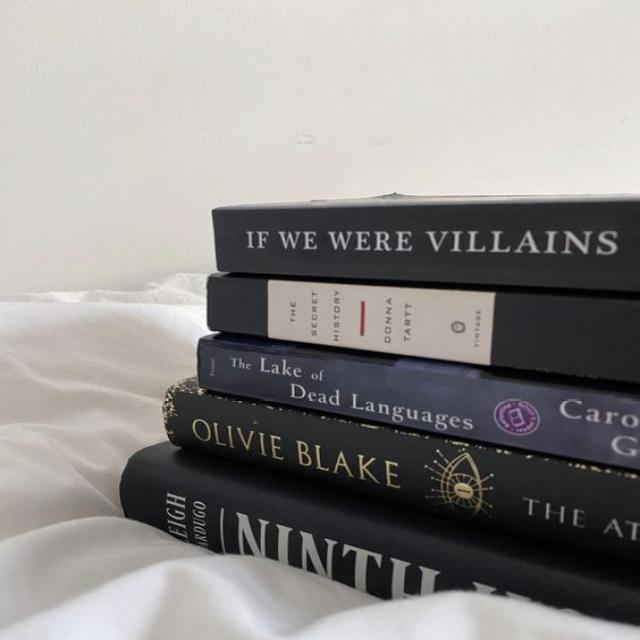book: (120, 442, 639, 623), (162, 378, 639, 559), (199, 335, 639, 470), (208, 275, 639, 383), (216, 198, 639, 292)
